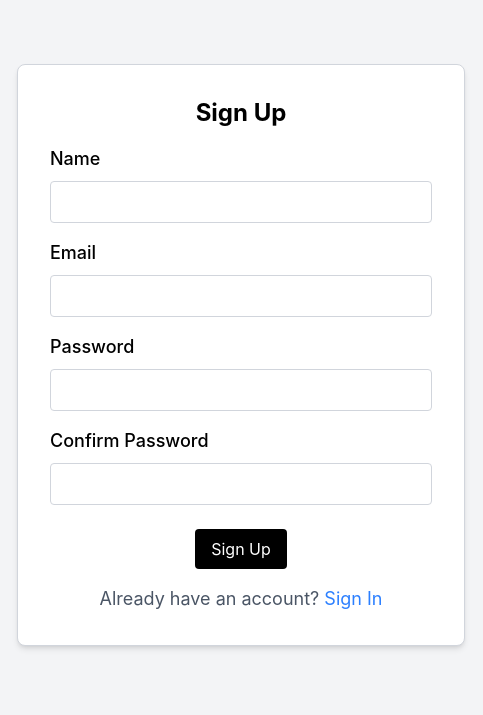
Scenario: Sign Up Page › ShouldShowErrorWhenPasswordLessThen8characters
This screenshot has width=483, height=715.
Type "priyans" into the password field labelled "Password" at coordinates (241, 390), box left=50, top=369, right=432, bottom=411
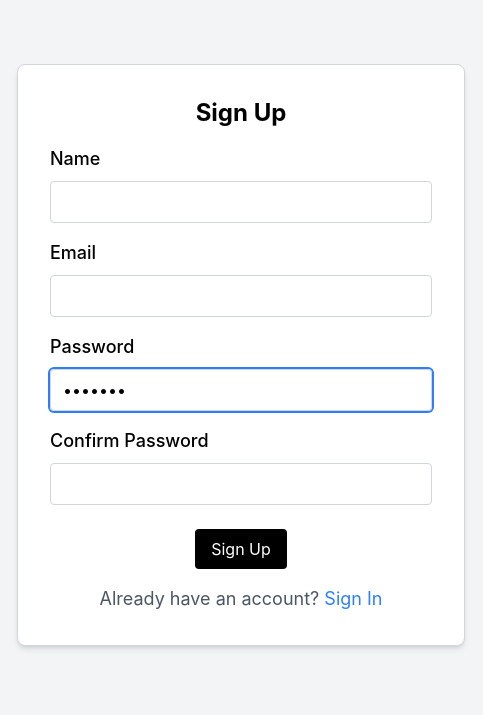
Click the button "Sign Up" at coordinates (241, 549), box left=195, top=529, right=287, bottom=569
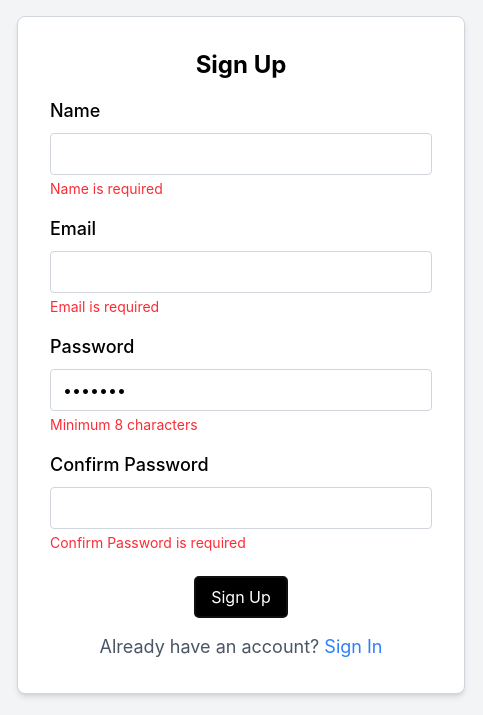
Check: the text "Minimum 8 characters" is shown, box left=50, top=416, right=198, bottom=433
